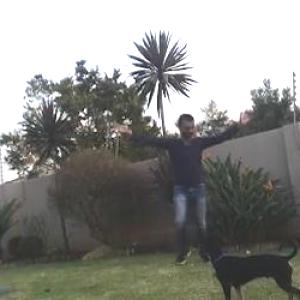takeoff: (104, 114, 244, 258)
